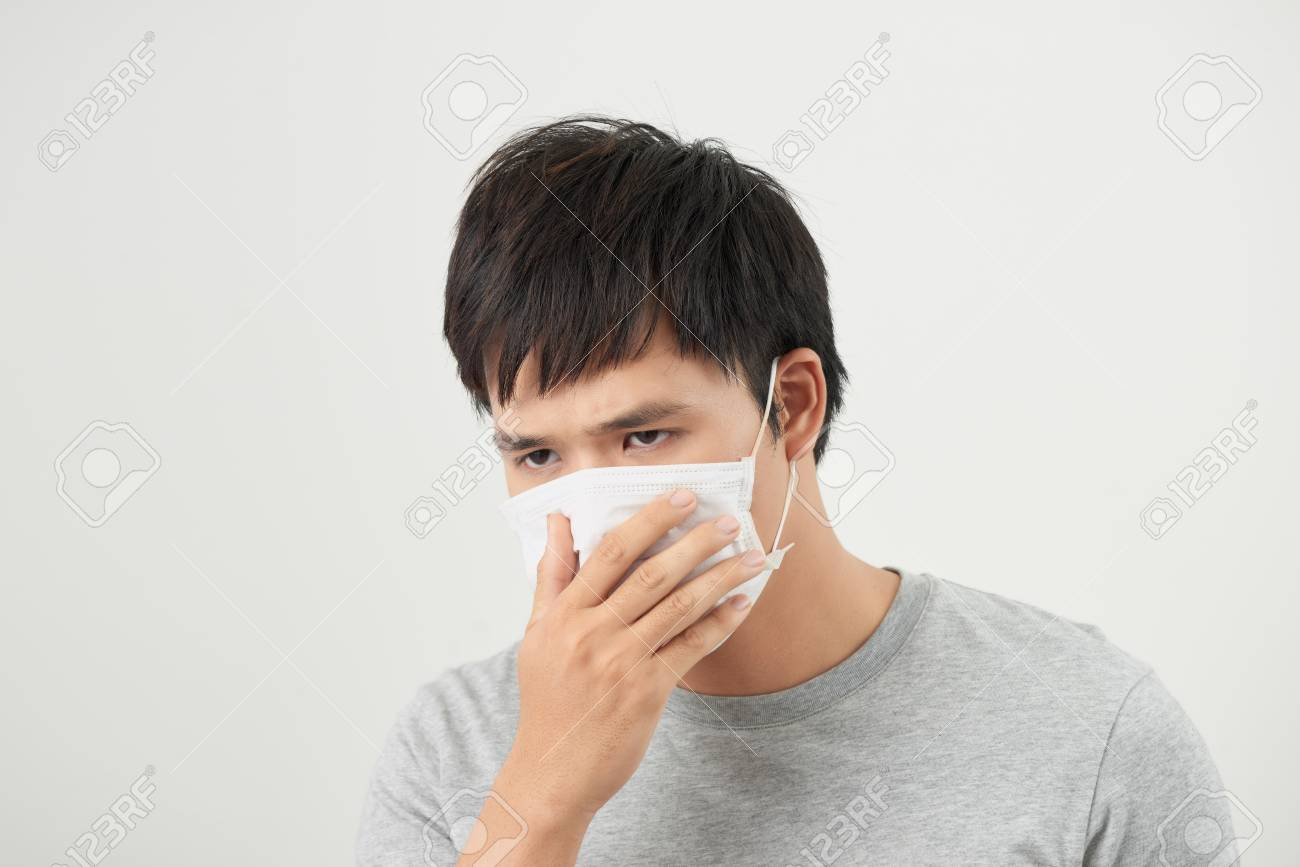mask: (496, 449, 805, 656)
